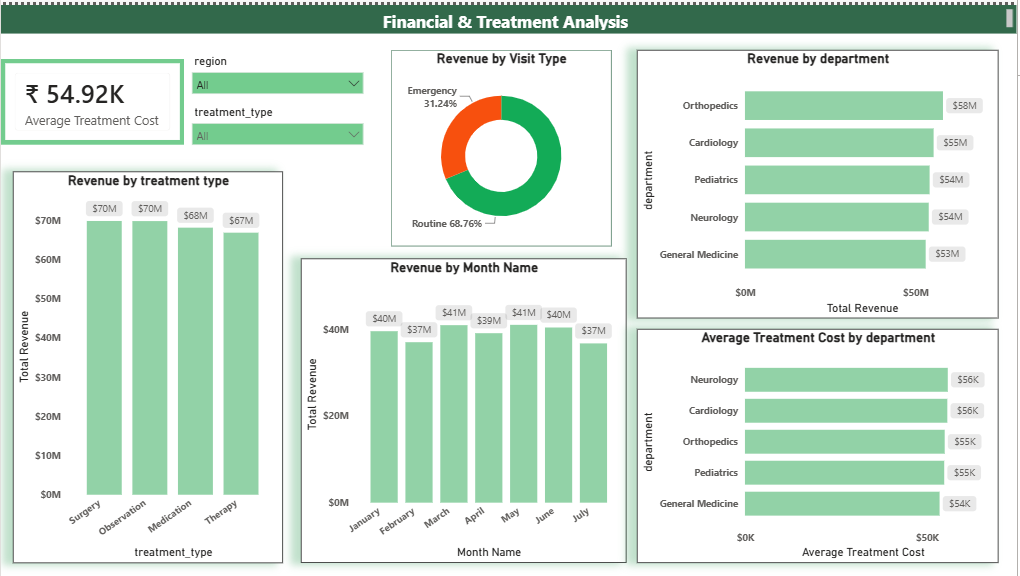

The dashboard page shown, as its layout file describes it:
{"tool":"powerbi","page":{"name":"Financial & Treatment Analysis","canvas":[1280,720],"ordinal":2},"visuals":[{"type":"textbox","box":[0,0,1279.4,35.9],"z":0},{"type":"cardVisual","fields":{"Data":["Measures (2).Average Treatment Cost"]},"box":[0,68,230.6,107.7],"z":2},{"type":"clusteredBarChart","title":" Revenue by department","fields":{"Category":["PatientAnalytics.department"],"Y":["Measures (2).Total Revenue"]},"box":[801.3,56.7,455.4,338.3],"z":3},{"type":"clusteredColumnChart","title":"Revenue by treatment type","fields":{"Category":["PatientAnalytics.treatment_type"],"Y":["Measures (2).Total Revenue"]},"box":[15.1,209.8,340.2,493.2],"z":4},{"type":"donutChart","title":"Revenue by Visit Type","fields":{"Category":["PatientAnalytics.visit_type"],"Y":["Measures (2).Total Revenue"]},"box":[491.3,56.7,277.8,247.6],"z":5},{"type":"columnChart","title":"Revenue by Month Name","fields":{"Category":["PatientAnalytics.Month Name"],"Y":["Measures (2).Total Revenue"]},"box":[378,319.4,410.1,383.6],"z":6},{"type":"clusteredBarChart","fields":{"Category":["PatientAnalytics.department"],"Y":["Measures (2).Average Treatment Cost"]},"box":[801.3,408.2,455.4,294.8],"z":7},{"type":"slicer","fields":{"Values":["PatientAnalytics.region"]},"box":[230.6,56.7,236.2,64.3],"z":8},{"type":"slicer","fields":{"Values":["PatientAnalytics.treatment_type"]},"box":[230.6,120.9,236.2,68],"z":9}]}

Visuals, with their boxes in screenshot pixels (x1, y1, x2, y2), scaled from the page's 1280x720 canvas onto the 1020x576 screenshot:
textbox: <region>0, 0, 1019, 29</region>
cardVisual - Measures (2).Average Treatment Cost: <region>0, 54, 184, 141</region>
" Revenue by department" clusteredBarChart: <region>639, 45, 1001, 316</region>
"Revenue by treatment type" clusteredColumnChart: <region>12, 168, 283, 562</region>
"Revenue by Visit Type" donutChart: <region>392, 45, 613, 243</region>
"Revenue by Month Name" columnChart: <region>301, 256, 628, 562</region>
clusteredBarChart - PatientAnalytics.department x Measures (2).Average Treatment Cost: <region>639, 327, 1001, 562</region>
slicer - PatientAnalytics.region: <region>184, 45, 372, 97</region>
slicer - PatientAnalytics.treatment_type: <region>184, 97, 372, 151</region>
